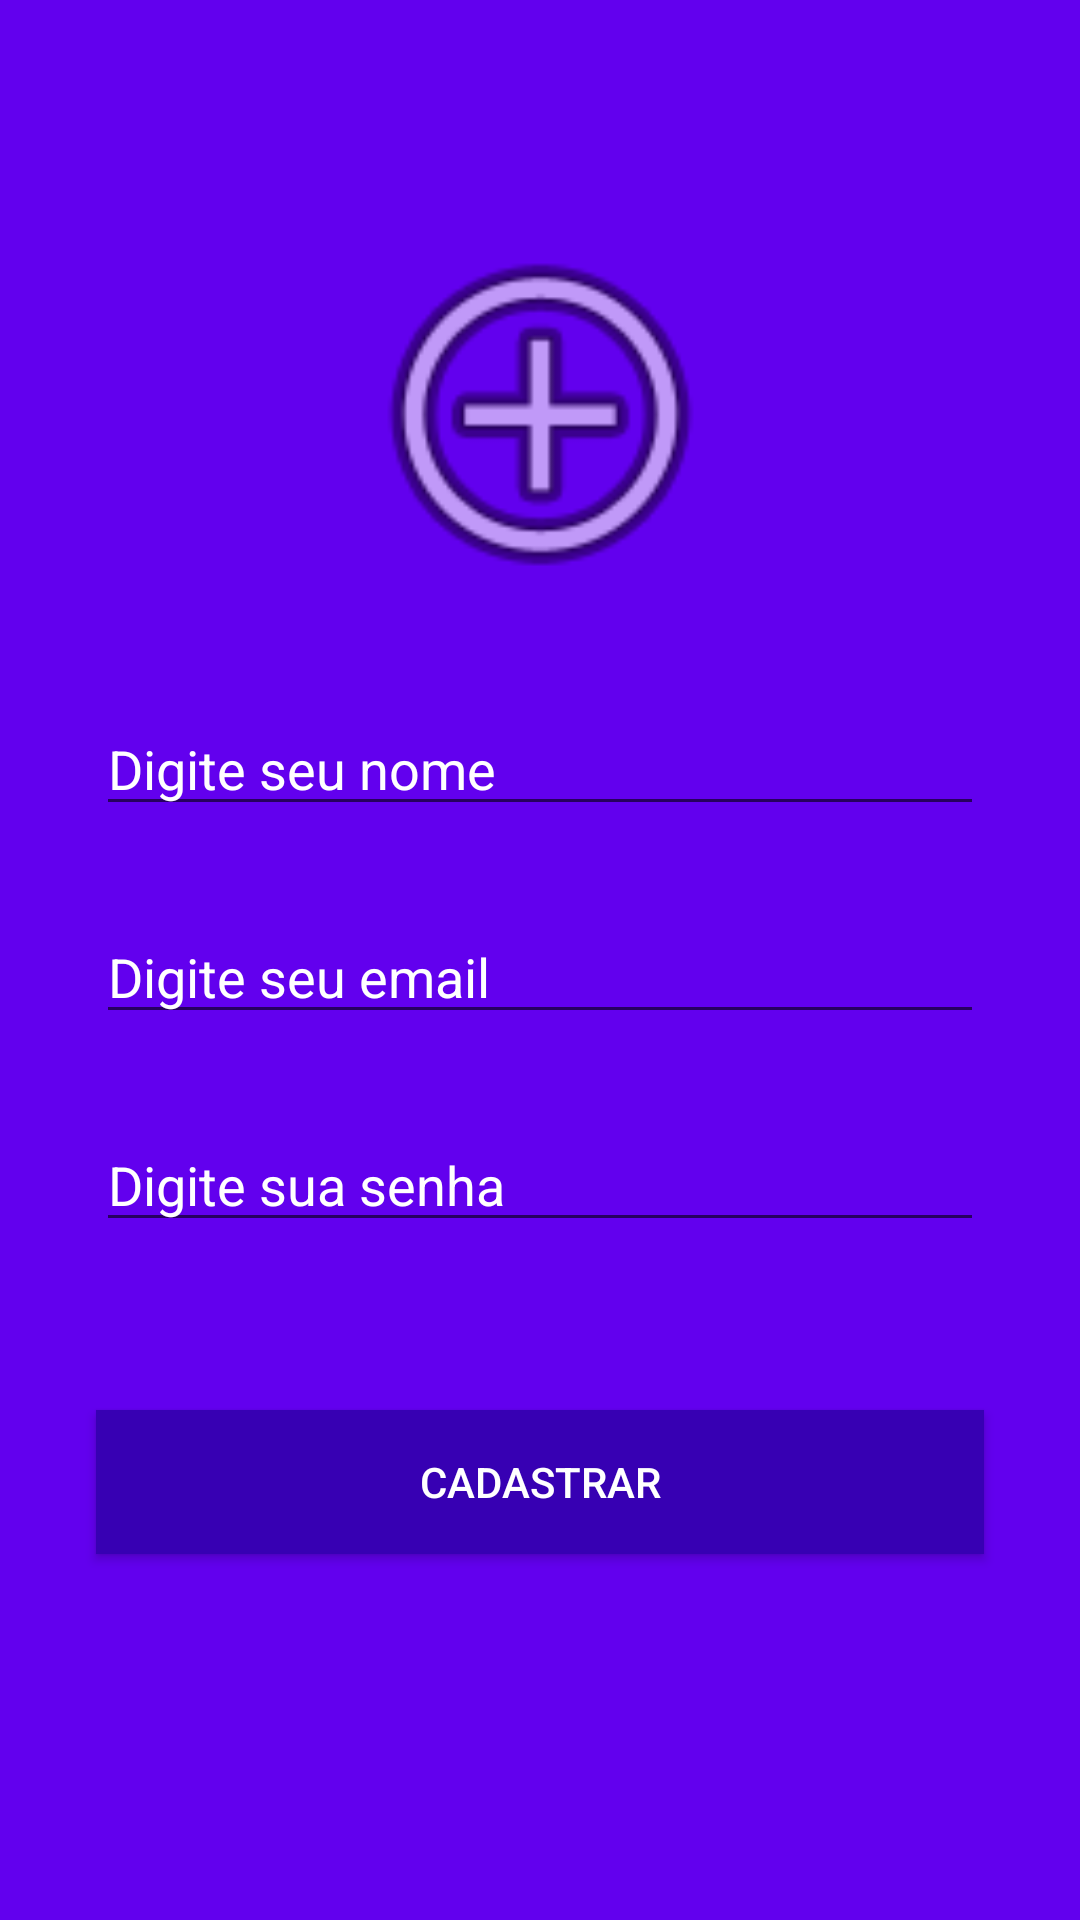

Icons on this 1080 x 1920 Android screen, each with its box as (x1, y1, x2, y2):
add: (390, 264, 691, 565)
